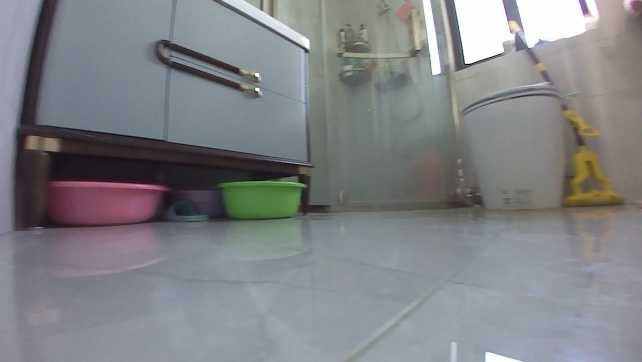slipper: (162, 195, 210, 224)
toilet: (459, 82, 568, 212)
washstand: (17, 0, 319, 225)
